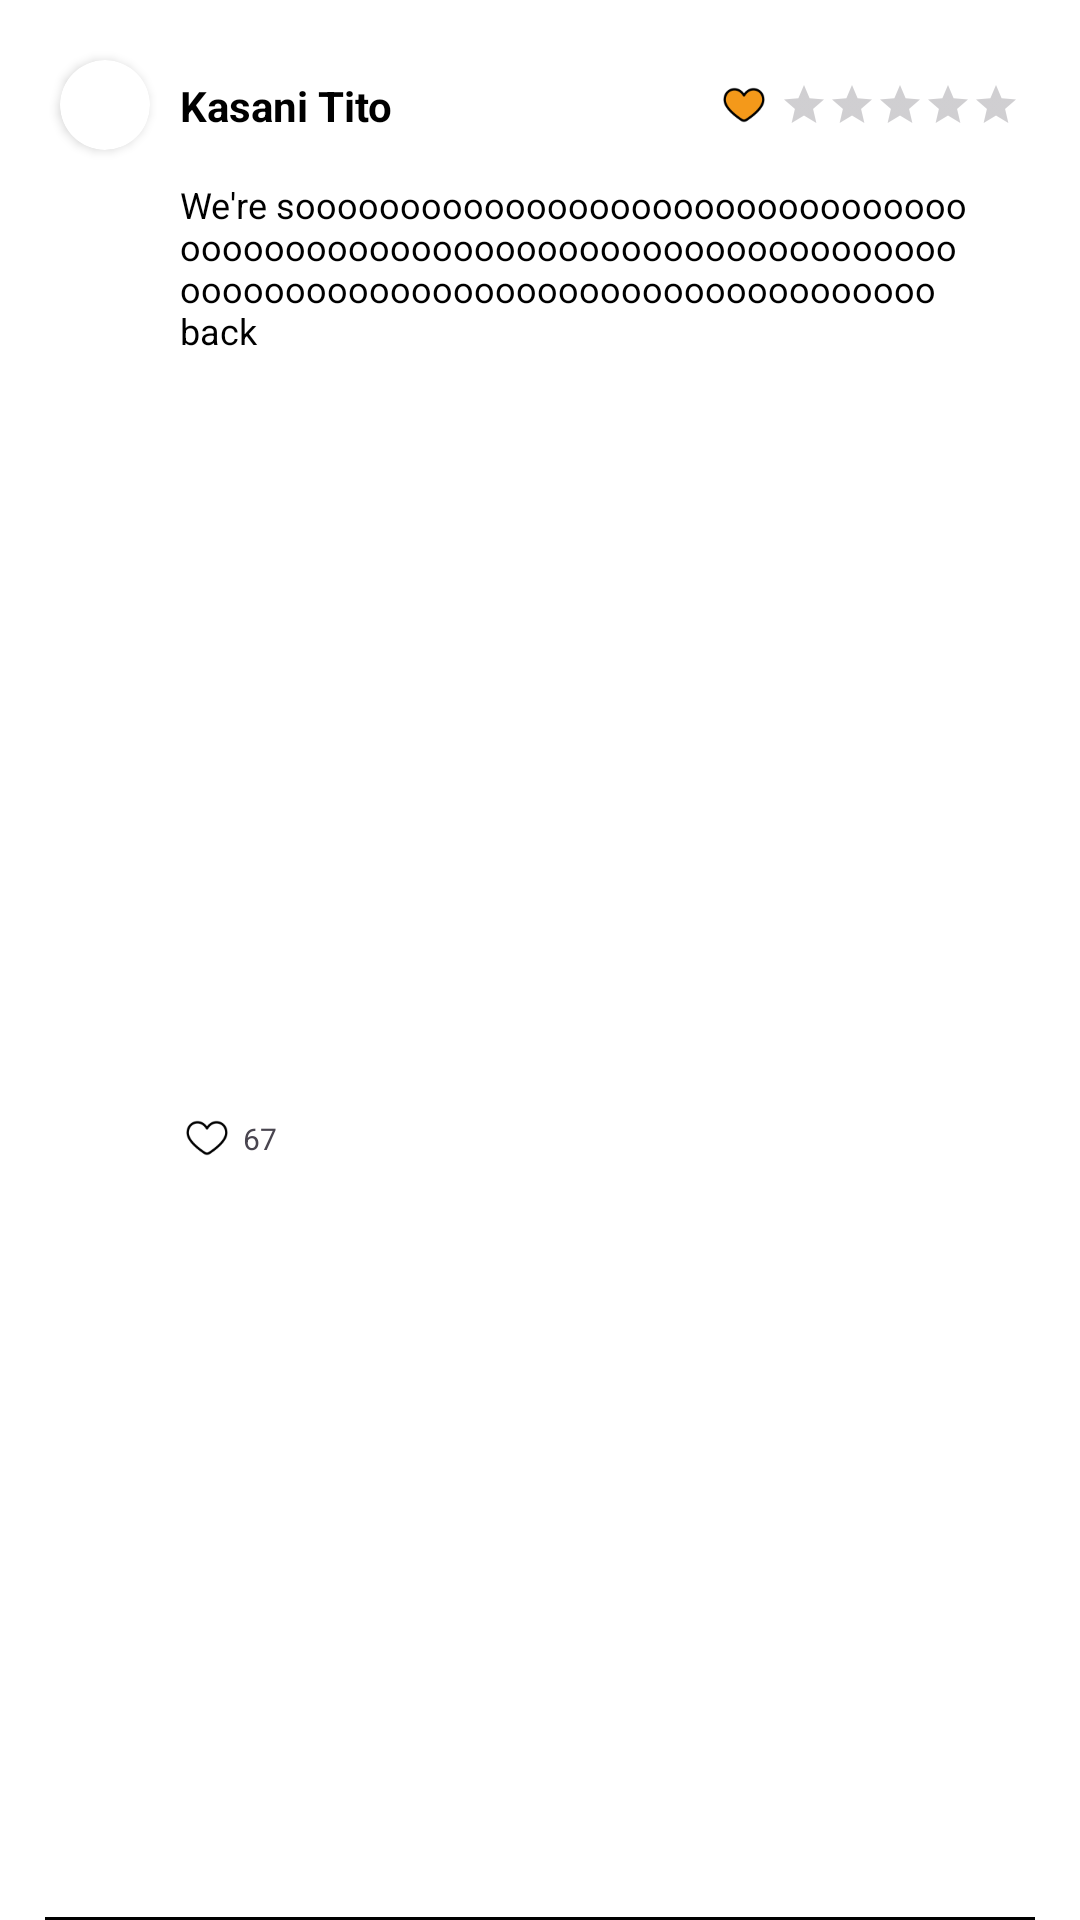

Screen size 1080 × 1920. Icon name, then its center in pixels as (x,y):
heart off: (207,1138)
heart on: (744,105)
